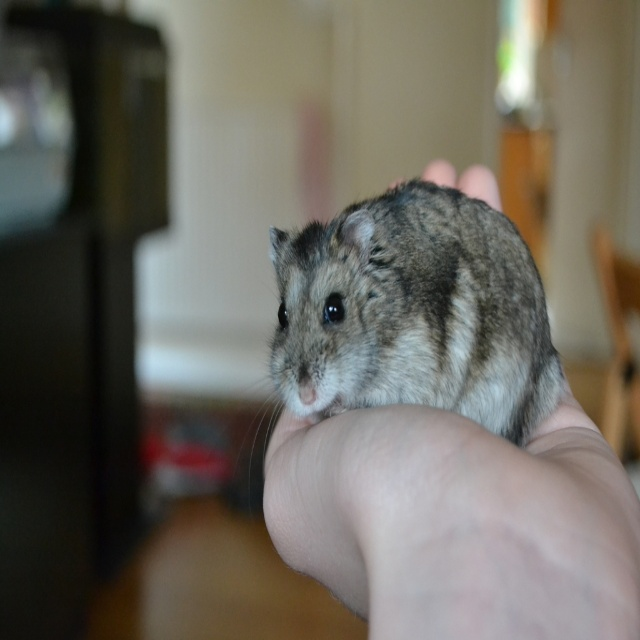Hamster: (207, 174, 573, 528)
